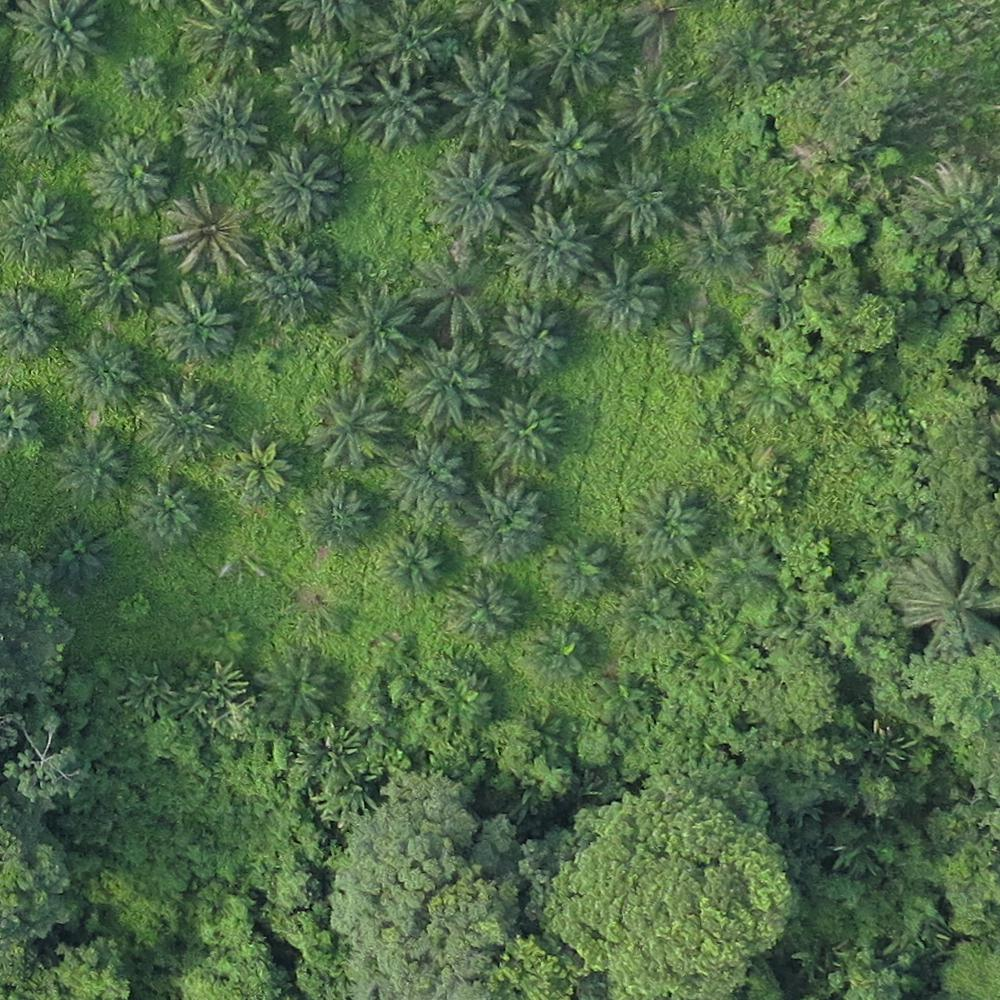Palm: (519, 98, 608, 193), (498, 205, 598, 289), (439, 51, 533, 139), (425, 152, 519, 240), (161, 186, 253, 274), (271, 44, 363, 132), (403, 341, 495, 429), (250, 236, 341, 323), (177, 82, 267, 169), (68, 229, 157, 316), (329, 290, 416, 375), (83, 134, 172, 217), (304, 388, 396, 468), (488, 385, 570, 474), (623, 483, 713, 564), (381, 433, 467, 517), (462, 480, 552, 560), (135, 381, 220, 465), (153, 285, 238, 369), (490, 295, 573, 380), (583, 258, 665, 343), (10, 1, 101, 77), (254, 145, 340, 225), (675, 199, 757, 282), (183, 4, 277, 76), (531, 11, 614, 90), (610, 64, 689, 143), (357, 67, 435, 147), (2, 181, 72, 268), (249, 652, 336, 722), (61, 331, 137, 410), (444, 572, 523, 644), (8, 90, 84, 164), (128, 473, 204, 547), (223, 433, 299, 507), (368, 5, 448, 75), (31, 523, 108, 595), (55, 427, 125, 506), (522, 616, 596, 689), (662, 304, 736, 375), (544, 535, 615, 607), (375, 531, 448, 599), (302, 481, 371, 551)
